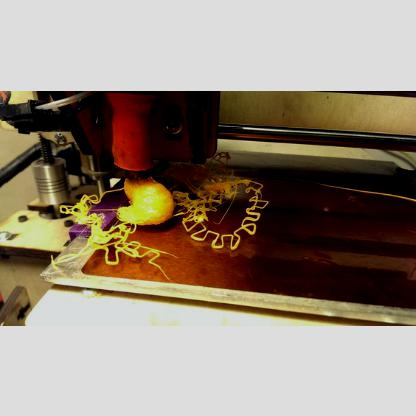fail: (178, 154, 266, 222), (61, 188, 108, 222)
